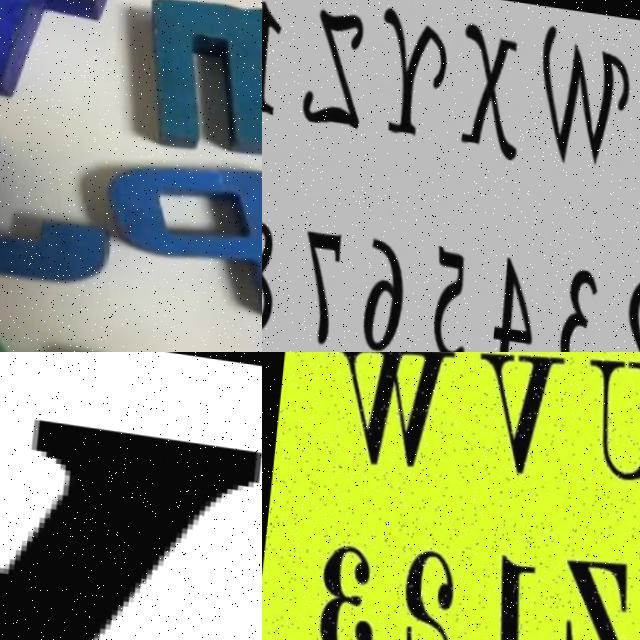1: (466, 526, 552, 640), (262, 0, 302, 126)
2: (387, 529, 476, 640), (605, 243, 640, 352)
3: (308, 532, 390, 640), (547, 248, 616, 352)
4: (477, 240, 554, 352)
5: (405, 227, 492, 352)
6: (343, 218, 425, 352)
7: (278, 208, 356, 352)
8: (262, 195, 297, 352)
J: (0, 113, 113, 287)
M: (138, 0, 262, 159)
P: (97, 144, 262, 320)
T: (0, 0, 111, 104)
X: (0, 369, 262, 640)
